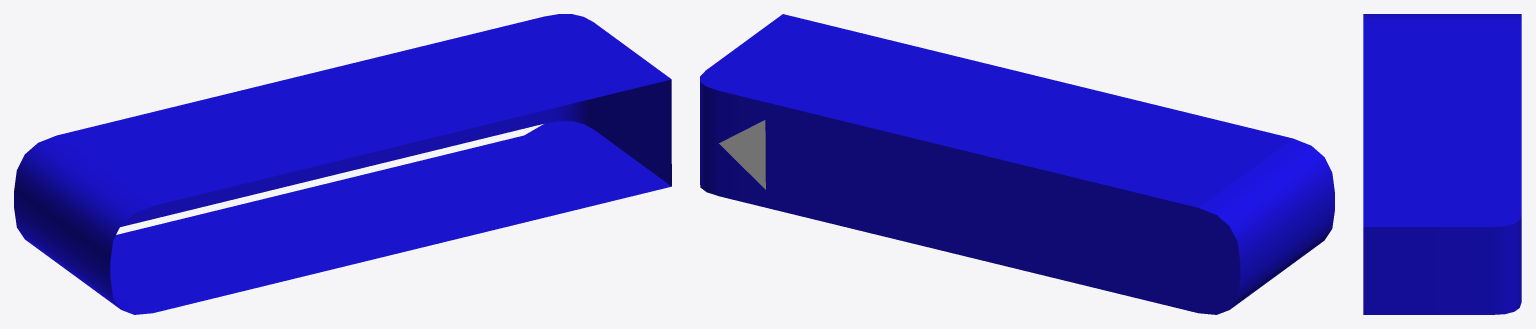
File: temporizador2.fbx
3 views of the same model, side by side, from view 1: azimuth 30°, elevation 25°; view 2: azimuth 150°, elevation 25°; view 3: azimuth 270°, elevation 25° (orthographic). The views are drawn at different scales.
Visible parts, largest first — view 1: Timer_low_Standardmaterial_0.001; view 2: Timer_low_Standardmaterial_0.001; view 3: Timer_low_Standardmaterial_0.001.
Boxes of the visible parts, x1,y1,x2,y2 form: Timer_low_Standardmaterial_0.001: (14,14,671,314); Timer_low_Standardmaterial_0.001: (700,14,1334,314); Timer_low_Standardmaterial_0.001: (1363,14,1521,314).
Size of the model in its own units: 76.84 by 14.03 by 22.84.
